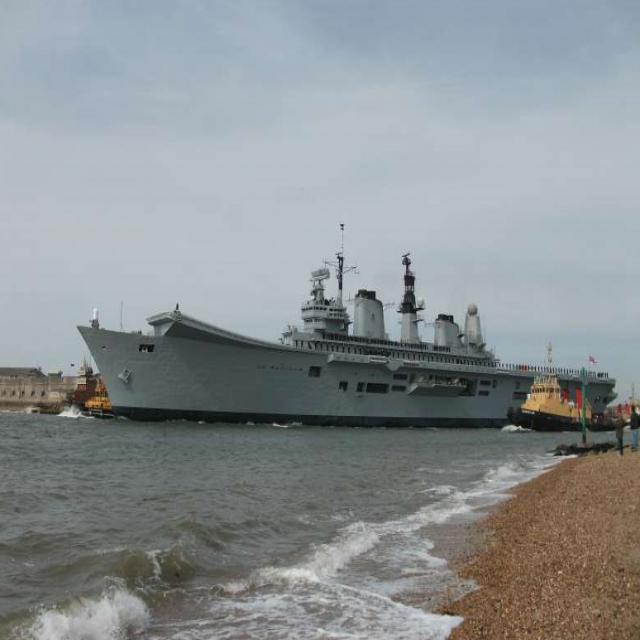Portanaves: (73, 215, 622, 425)
